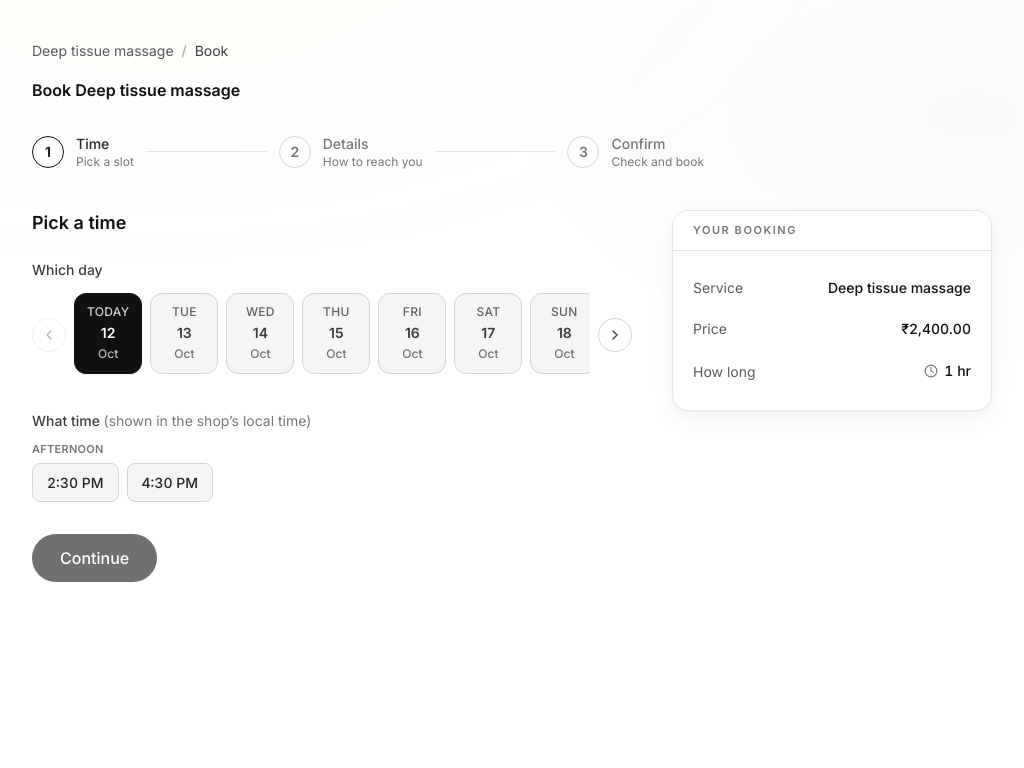
BookService › says pay at venue on the confirm button, never "payment pending"
Click the radio button labelled "2:30 PM" at (75, 482), box [32,462,118,502]
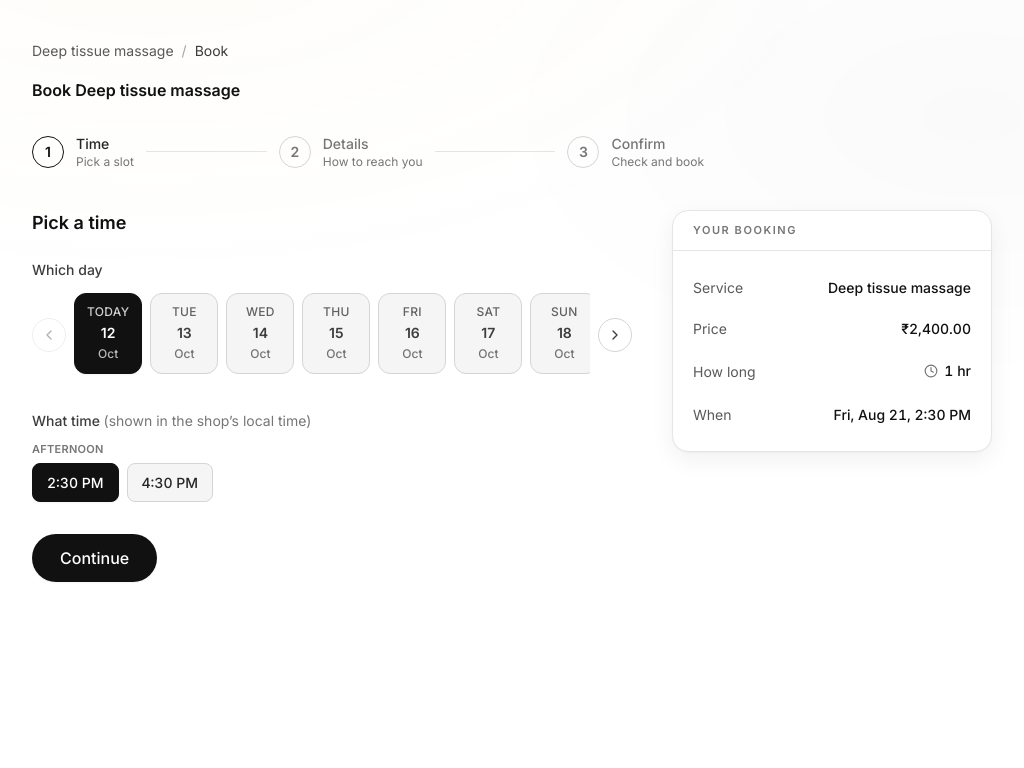
Click the button "Continue" at (95, 558), box [32,534,157,582]
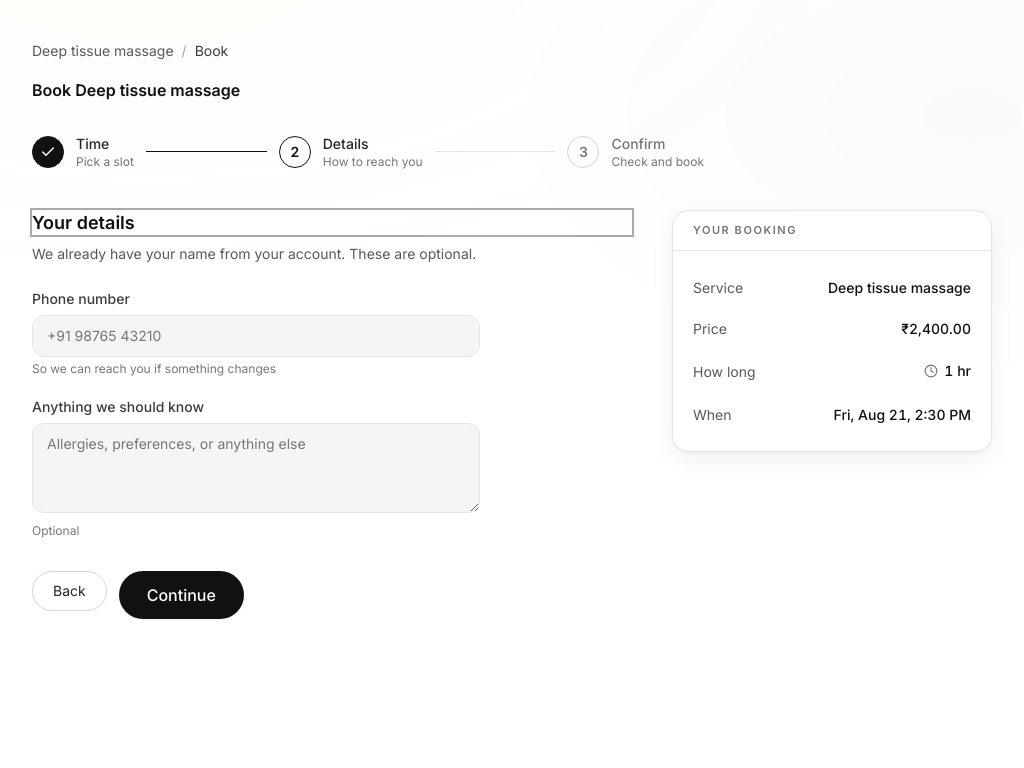
Click the button "Continue" at (181, 595), box [119,571,244,619]
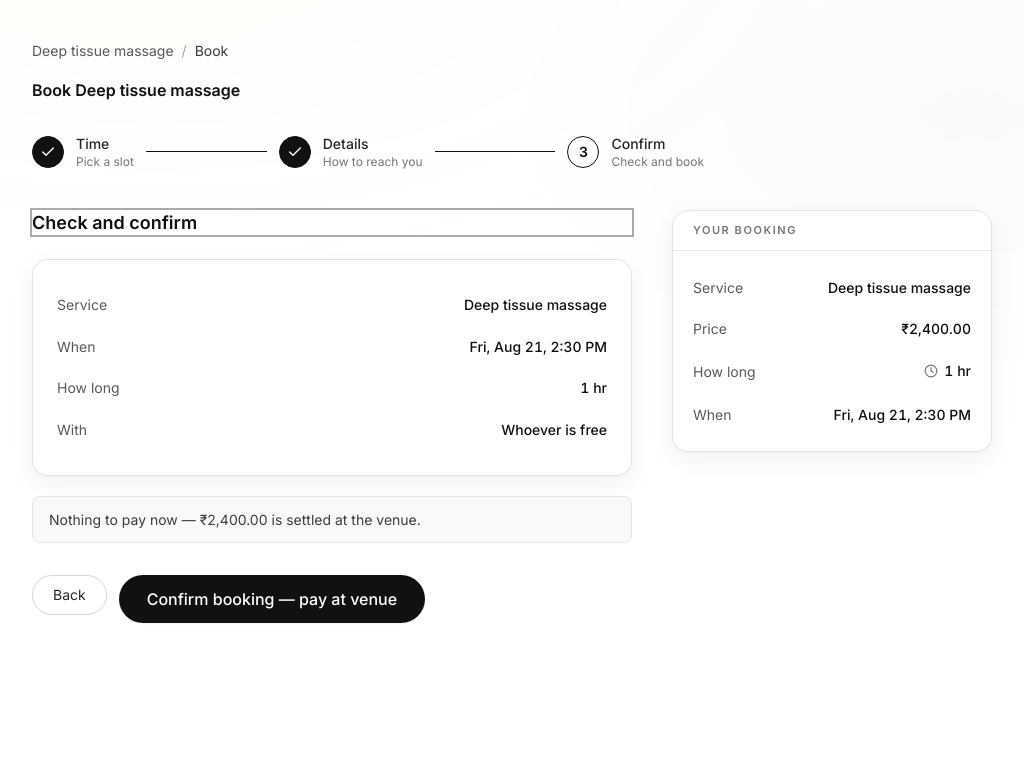
Now the button "Confirm booking — pay at venue" is shown, box [119,575,425,623]
